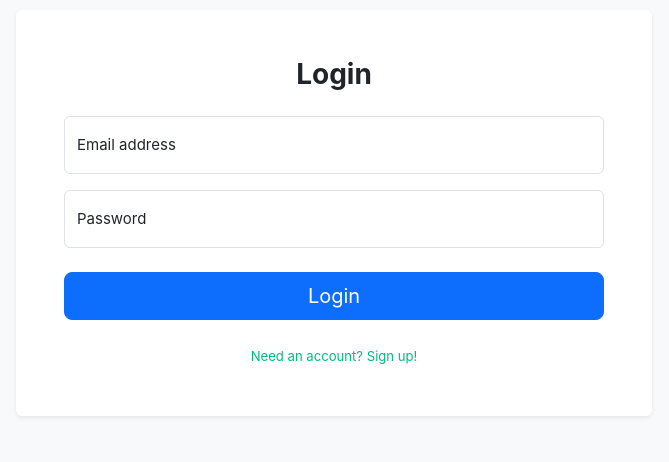
it: Login.vue › displays an error message on failed login
Simulate user input and form submission
Step 1. Type "test@example.com" into the field with id "login-email" → {"x": 334, "y": 145}, box left=64, top=116, right=604, bottom=174
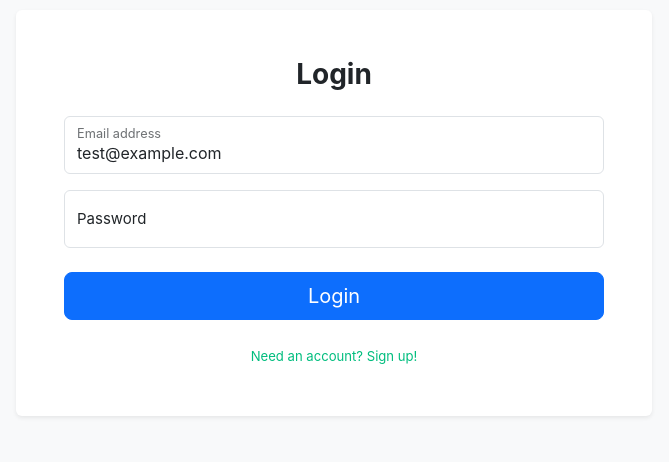
Step 2. Type "password123" into the password field with id "login-password" → {"x": 334, "y": 219}, box left=64, top=190, right=604, bottom=248
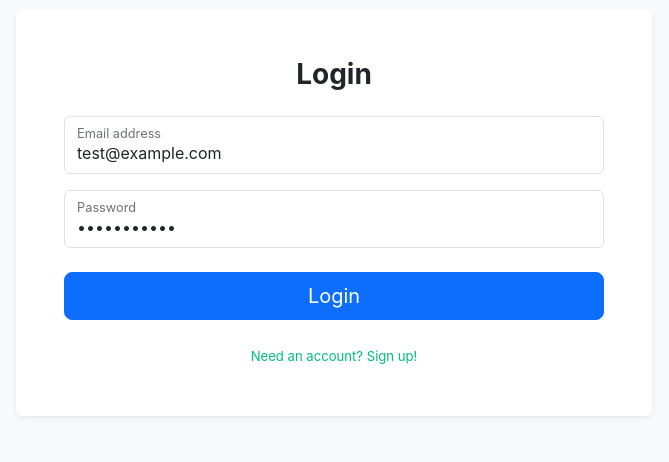
Step 3. Submit the form, box left=64, top=116, right=604, bottom=320
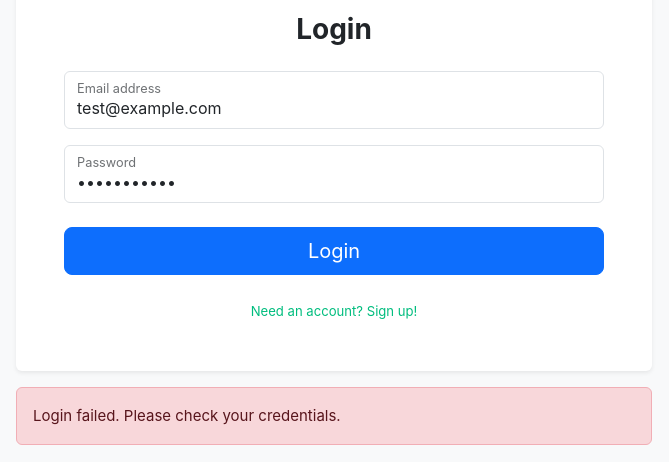
Result: the message with class "alert-danger" reads "Login failed. Please check your credentials." at left=33, top=406, right=341, bottom=425
